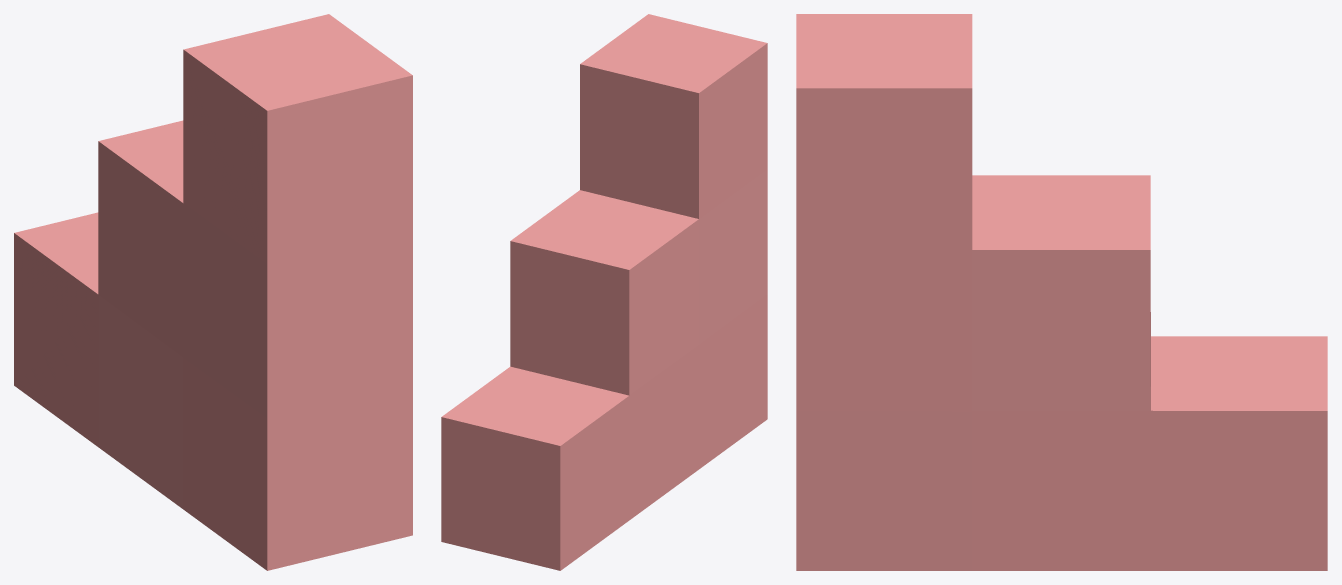
The model's file is triBlock_edit.fbx.
3 views of the same model, side by side, from view 1: azimuth 30°, elevation 25°; view 2: azimuth 150°, elevation 25°; view 3: azimuth 270°, elevation 25° (orthographic). The views are drawn at different scales.
Visible parts, largest first — view 1: Red_Corner; view 2: Red_Corner; view 3: Red_Corner.
Part boxes in pixels (x1,y1,x2,y2): Red_Corner: (14, 14, 412, 570); Red_Corner: (441, 14, 767, 570); Red_Corner: (796, 14, 1327, 570).
Size of the model in its own units: 100 by 299 by 298.
